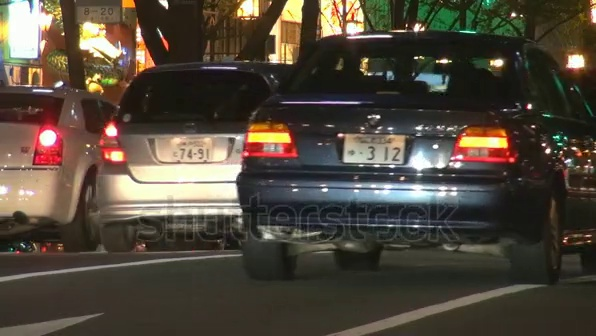licenseplate: (345, 127, 409, 161), (155, 137, 217, 169)
